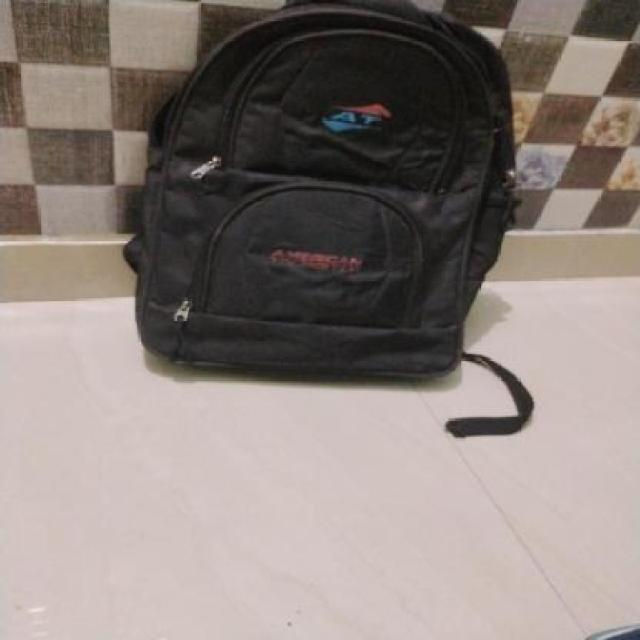backpack: (122, 0, 528, 385)
